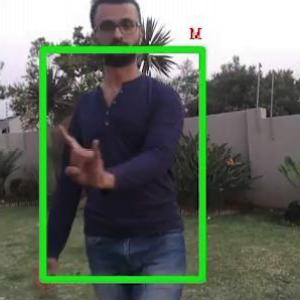takeoff-hand: (48, 119, 110, 195)
